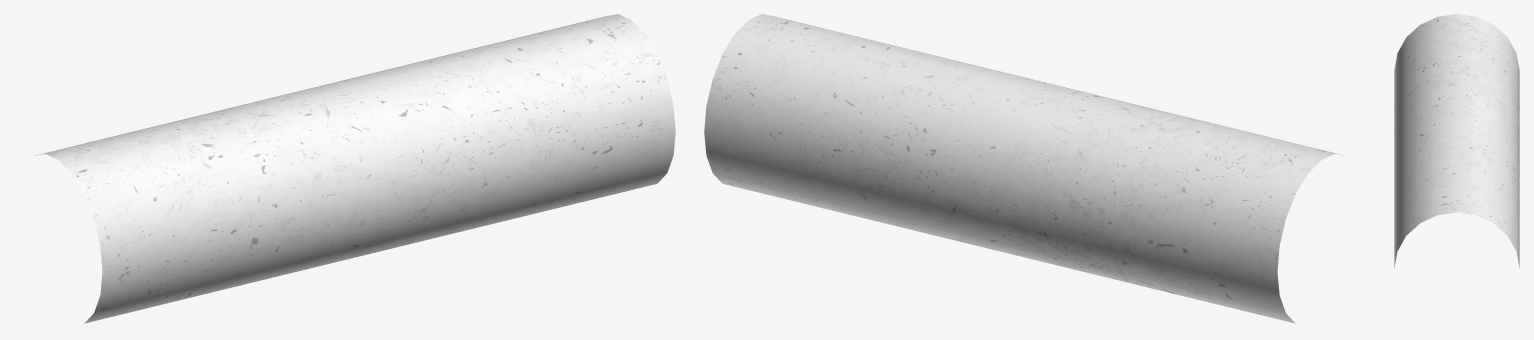
Rendered from SM_AC_Unit_C_100u.glb.
The picture shows the model from 3 angles, left to right: view 1: azimuth 30°, elevation 25°; view 2: azimuth 150°, elevation 25°; view 3: azimuth 270°, elevation 25°; orthographic projection. The views are drawn at different scales.
Visible parts, largest first — view 1: SM_AC_Unit_C_100u; view 2: SM_AC_Unit_C_100u; view 3: SM_AC_Unit_C_100u.
Part boxes in pixels (box(x1,y1,x2,y2)): SM_AC_Unit_C_100u: box(34, 14, 675, 323); SM_AC_Unit_C_100u: box(704, 14, 1345, 323); SM_AC_Unit_C_100u: box(1394, 14, 1519, 268).
Size of the model in its own units: 1.5 by 0.4 by 0.4.
Materials: 1 (1 with a texture image).
